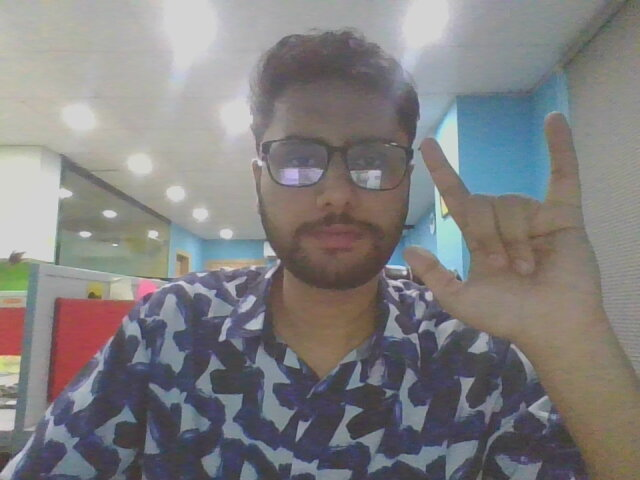iloveyou: (401, 130, 627, 353)
